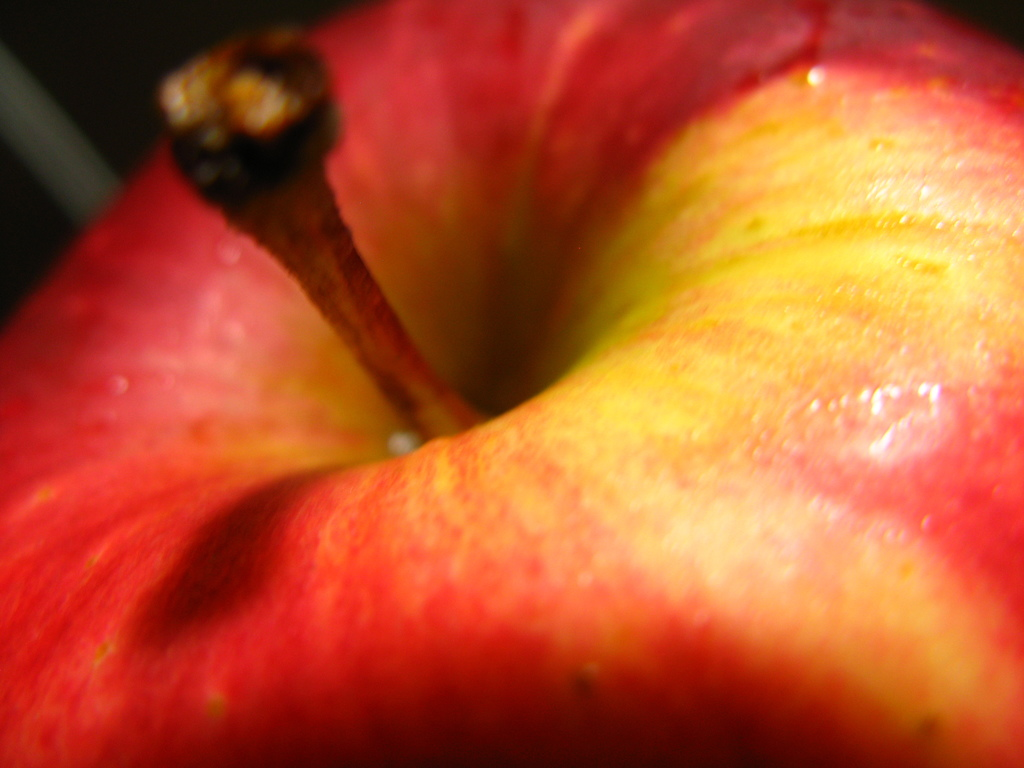Apple: (66, 3, 1001, 768)
